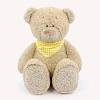teddy: (14, 4, 89, 97)
